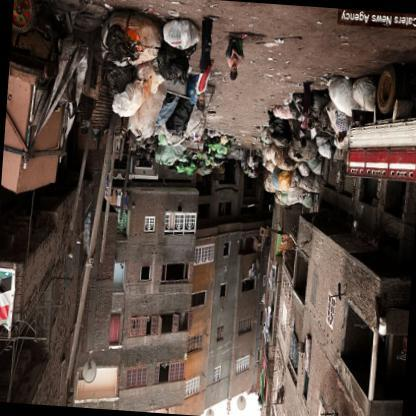Garbage: (209, 122, 233, 148), (266, 55, 283, 84), (262, 31, 278, 53), (168, 8, 182, 20)
